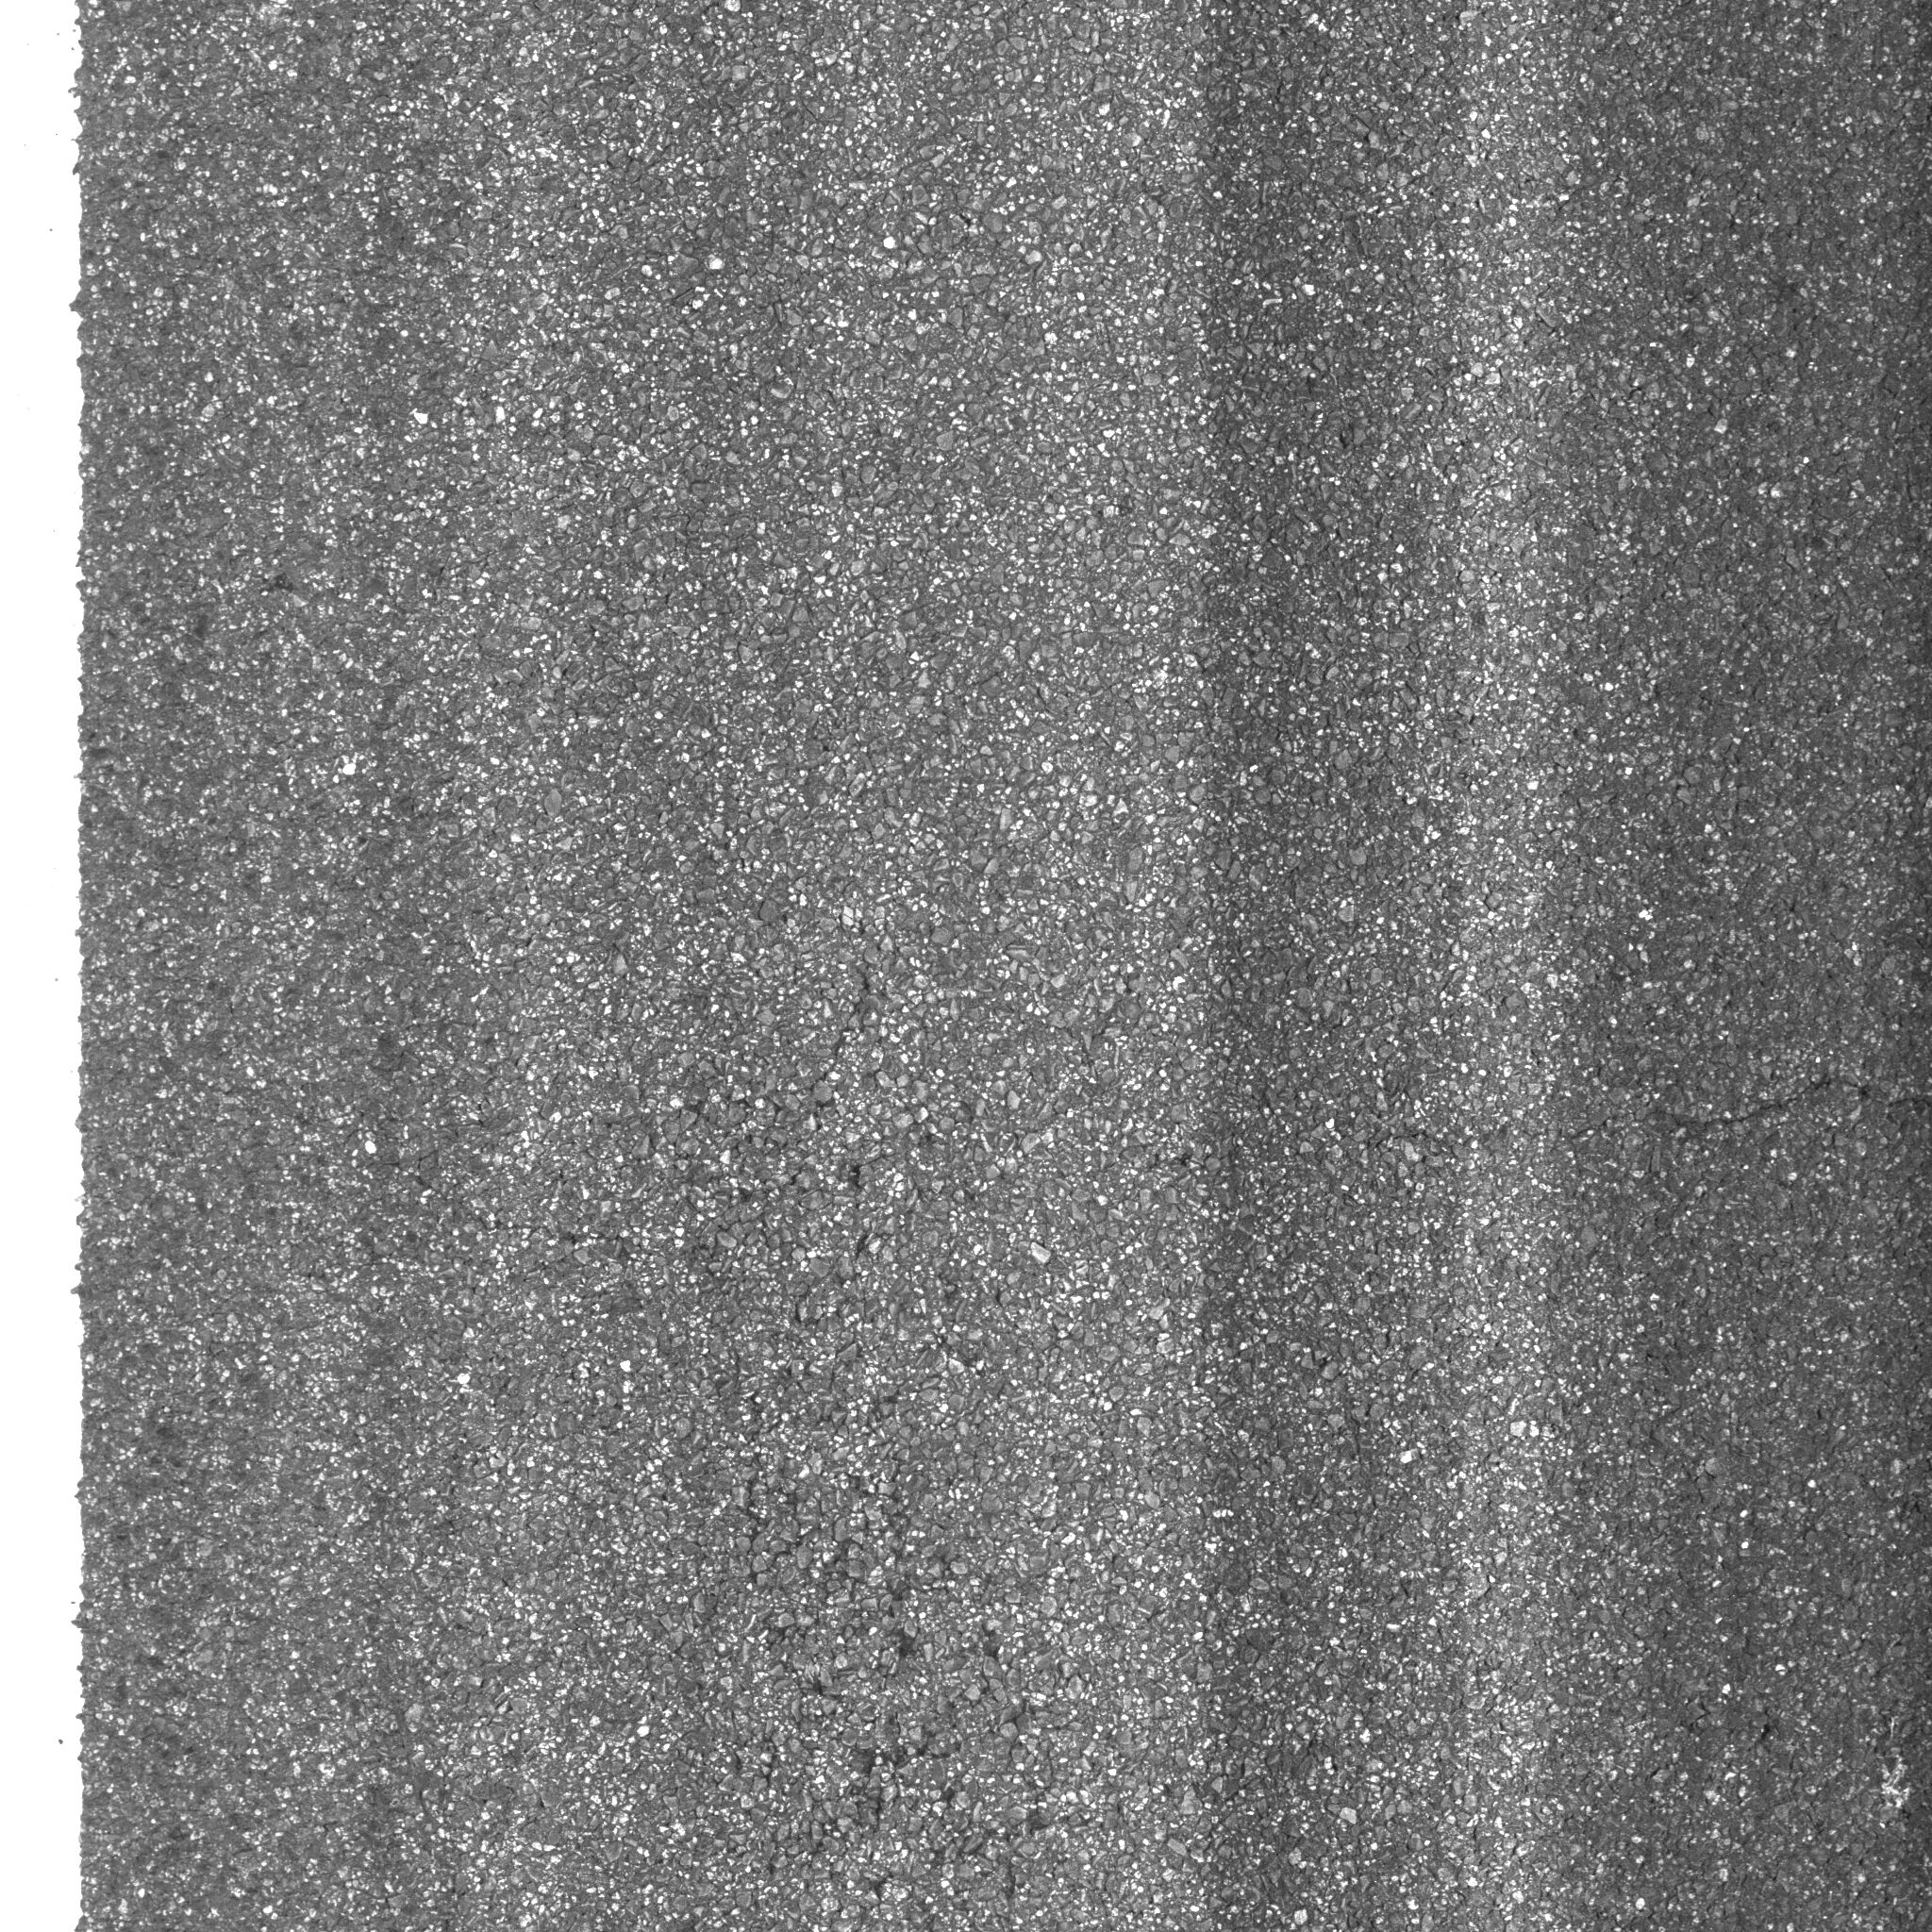transeverse: (731, 943, 1039, 1930), (1085, 1074, 1932, 1187)
